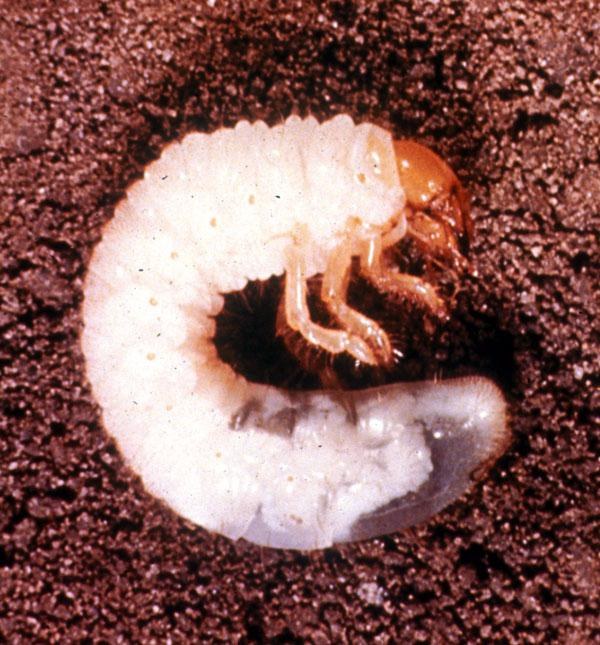grub: (69, 109, 515, 553)
